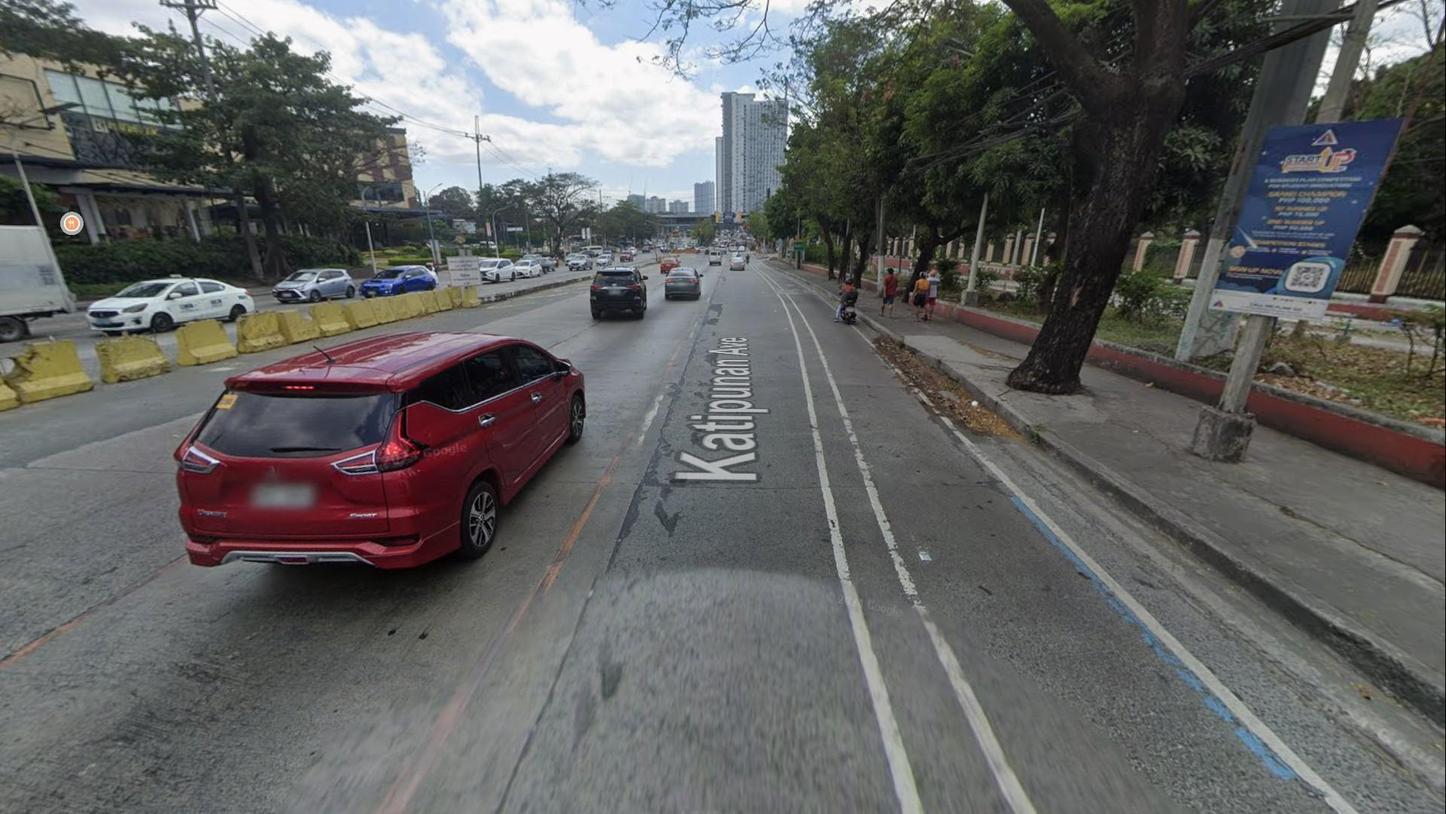pedestrian: (878, 267, 900, 319), (911, 271, 930, 323), (921, 269, 940, 321)
